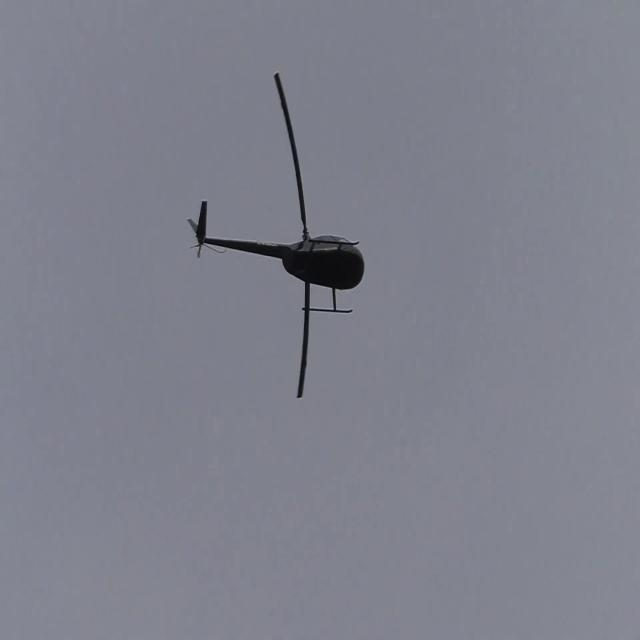CIV_HELO: (187, 197, 366, 316)
